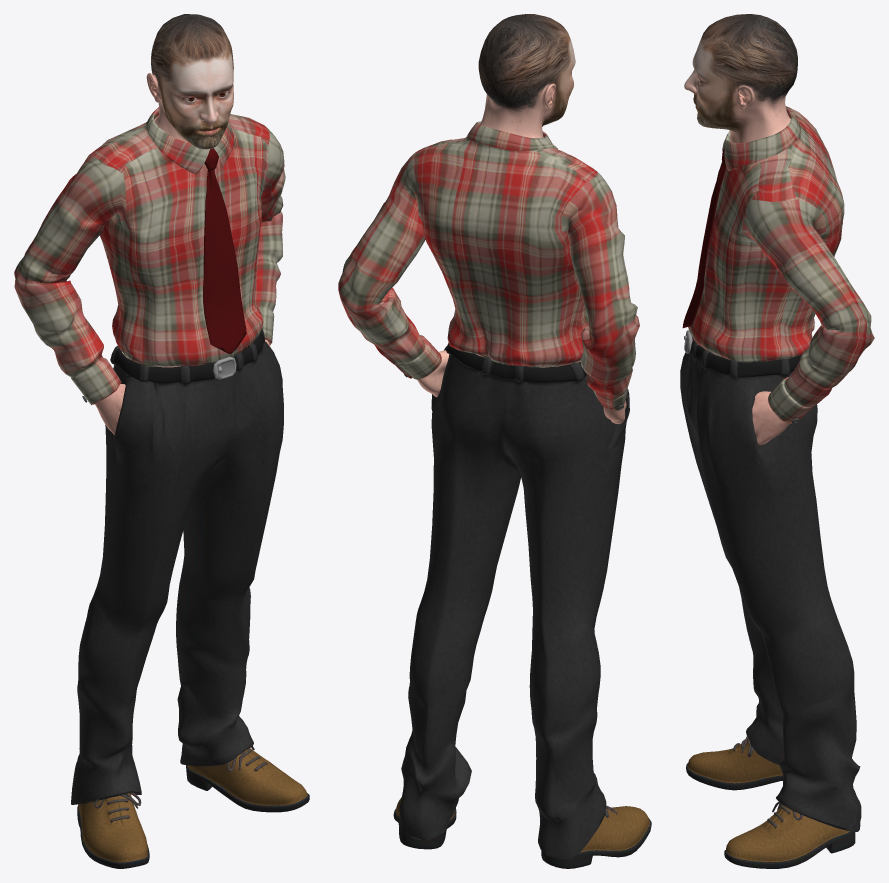
The model's file is bos_standing.glb.
3 renders of one model, left to right at view 1: azimuth 30°, elevation 25°; view 2: azimuth 150°, elevation 25°; view 3: azimuth 270°, elevation 25°, orthographic.
Visible parts, largest first — view 1: Mesh2_Body_Clothes_Shi_0, Mesh1_M_0022_Maroon_0; view 2: Mesh2_Body_Clothes_Shi_0; view 3: Mesh2_Body_Clothes_Shi_0, Mesh1_M_0022_Maroon_0.
Boxes of the visible parts, bbox=[...] form: Mesh2_Body_Clothes_Shi_0: bbox=[14, 14, 309, 868]; Mesh1_M_0022_Maroon_0: bbox=[203, 148, 246, 353]; Mesh2_Body_Clothes_Shi_0: bbox=[338, 14, 651, 868]; Mesh2_Body_Clothes_Shi_0: bbox=[680, 14, 874, 868]; Mesh1_M_0022_Maroon_0: bbox=[682, 146, 726, 328].
Bounding box in the file's own units: 0.6487 × 1.82 × 0.3995.
6 materials, 6 textured.
